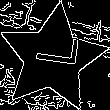L_W: (25, 39, 80, 77)
